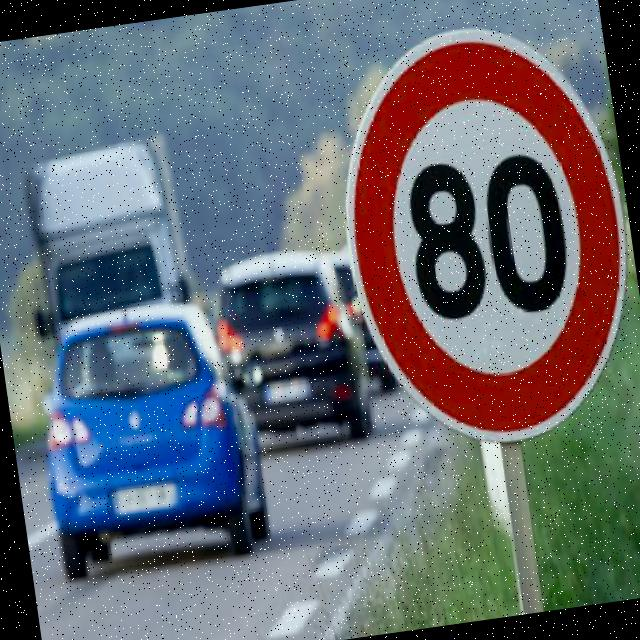Ograniczenie predkosci do 80: (352, 59, 618, 426)
